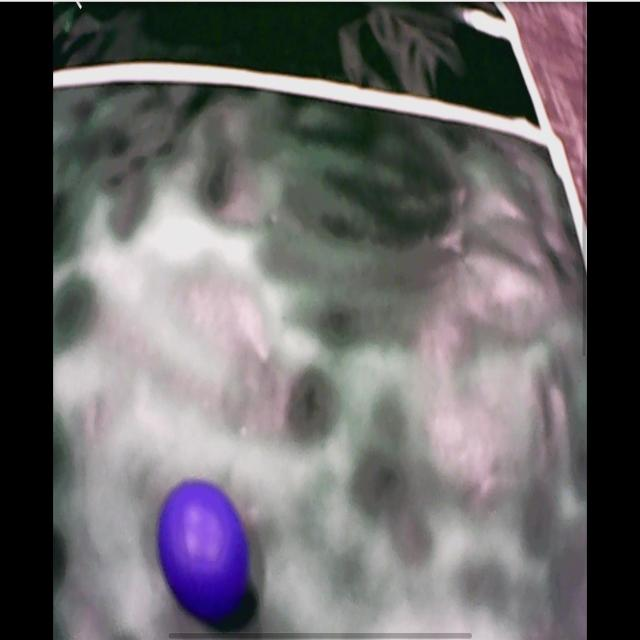ball: (160, 481, 249, 621)
